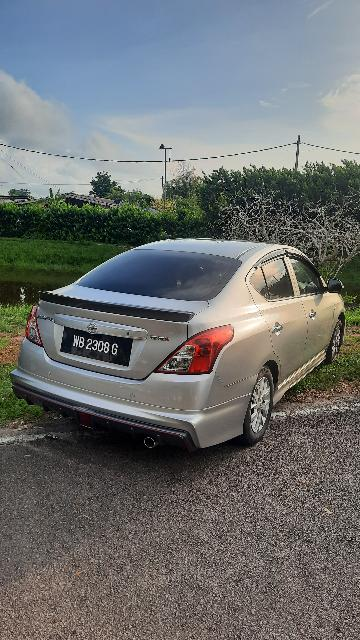License_Plate: (54, 324, 140, 372)
car: (11, 239, 350, 452)
